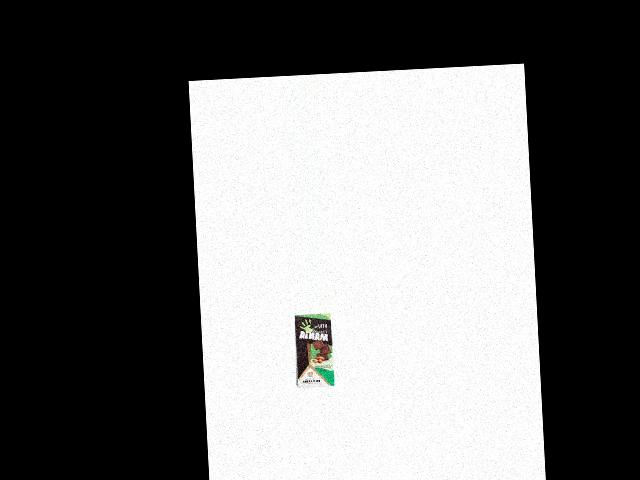chocolate: (291, 311, 336, 389)
